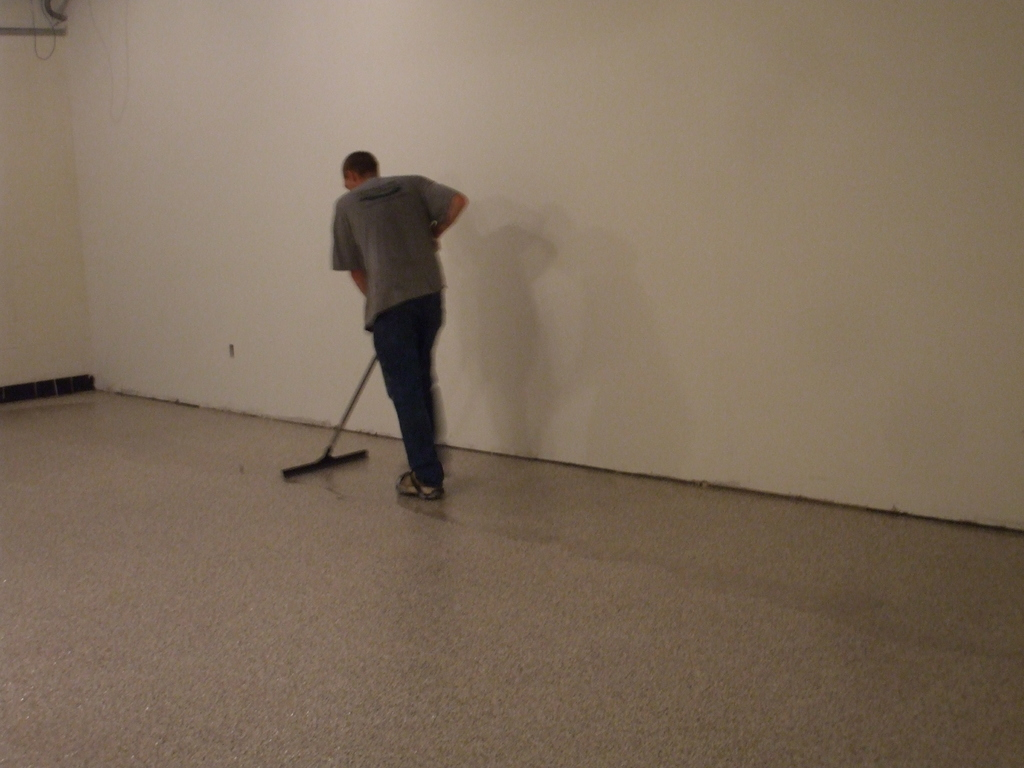person: (329, 148, 472, 502)
